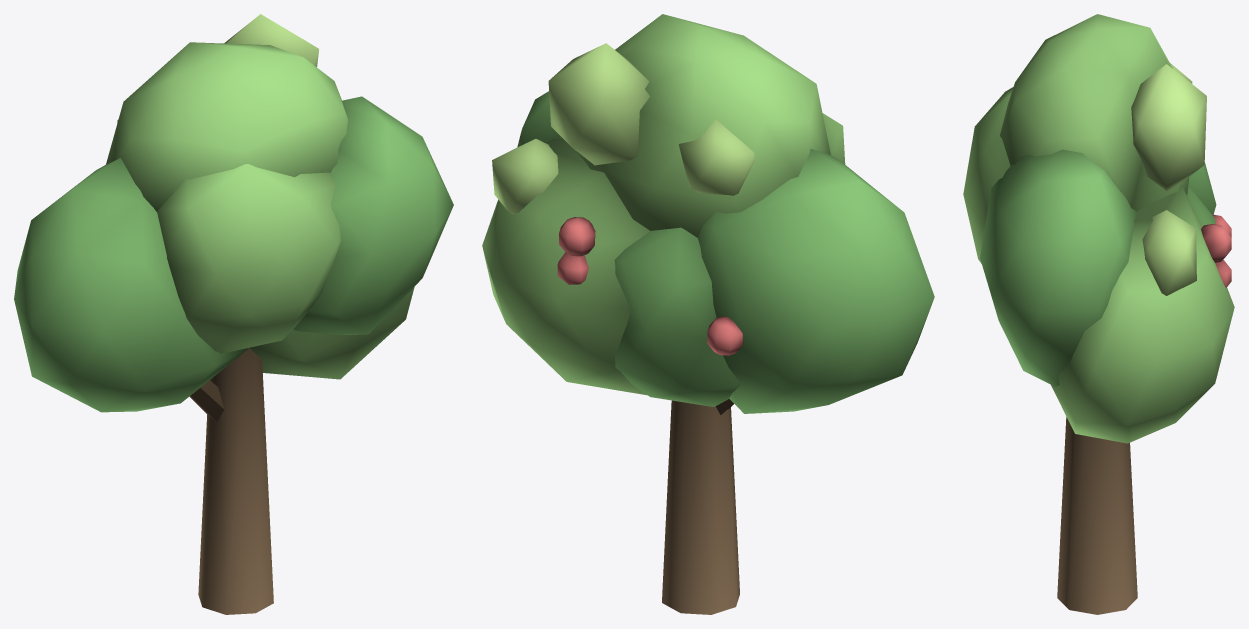
The model's file is Forest_Tree1.fbx.
3 renders of one model, left to right at view 1: azimuth 30°, elevation 25°; view 2: azimuth 150°, elevation 25°; view 3: azimuth 270°, elevation 25°, orthographic. The views are drawn at different scales.
Parts seen in each view (by area): view 1: Forest_Tree1; view 2: Forest_Tree1; view 3: Forest_Tree1.
Part boxes in pixels (left/top/right/bottom): Forest_Tree1: left=14, top=14, right=453, bottom=614; Forest_Tree1: left=482, top=14, right=934, bottom=614; Forest_Tree1: left=963, top=14, right=1234, bottom=614.
Size of the model in its own units: 3.78 by 4.91 by 2.12.
